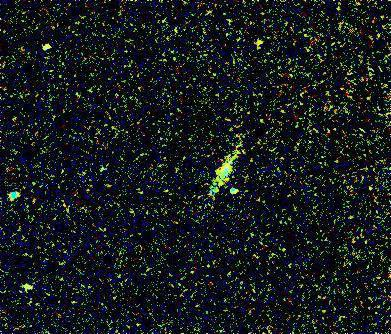star: (247, 29, 277, 59)
